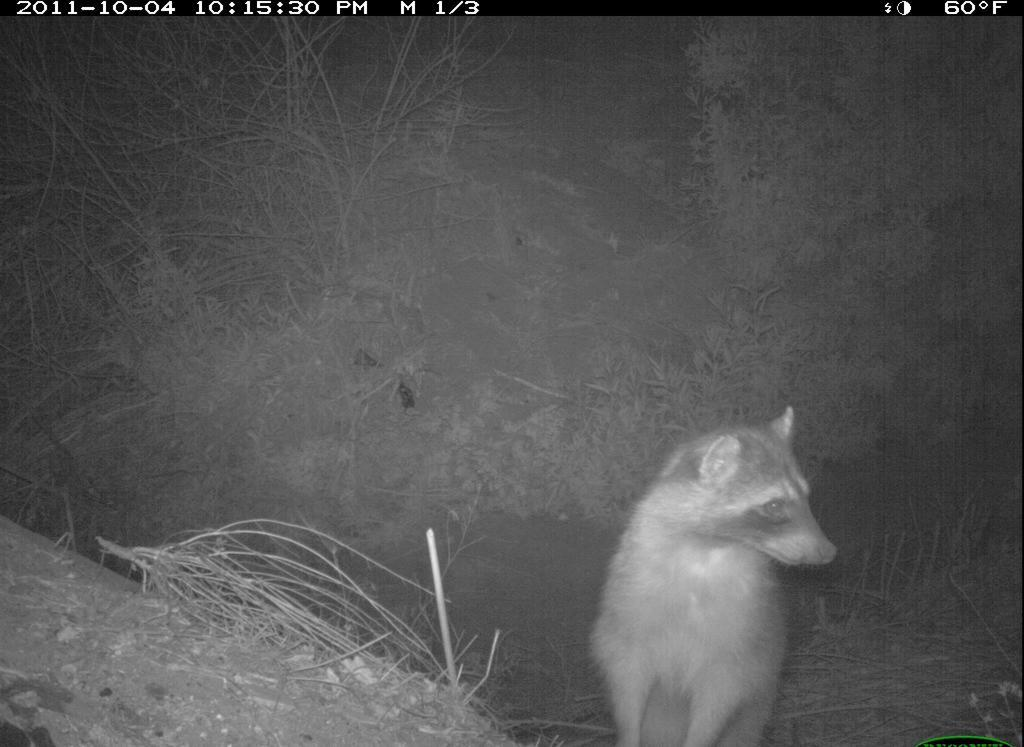raccoon: (587, 406, 844, 747)
